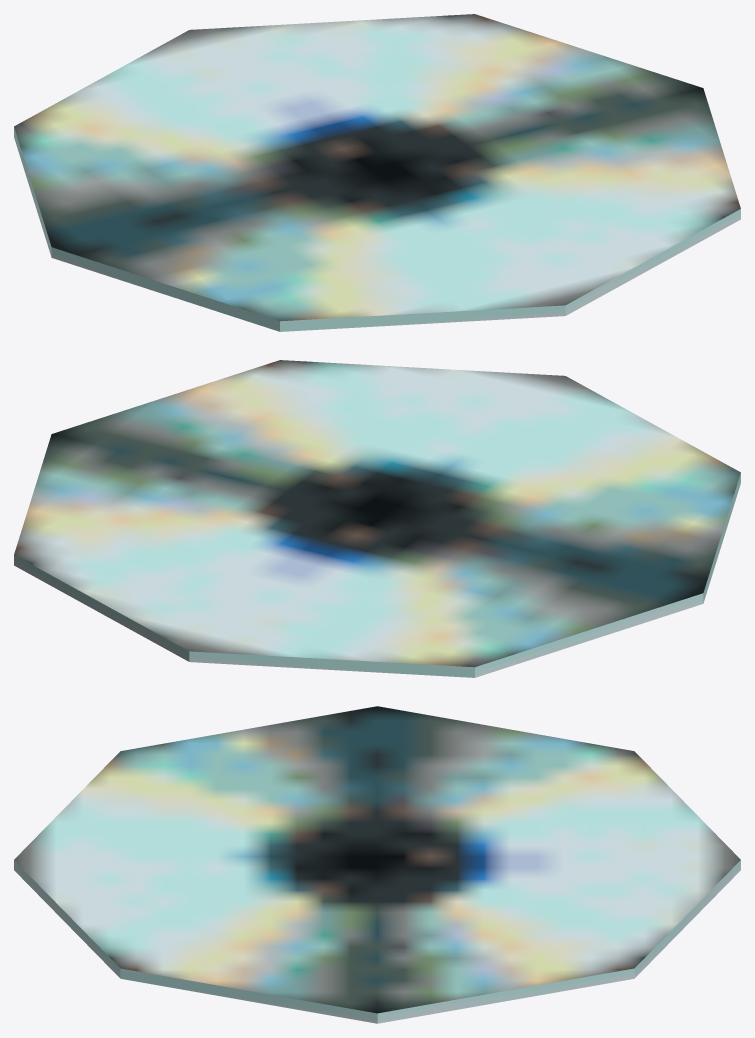
The model's file is disk.fbx.
3 views of the same model, one above another, from view 1: azimuth 30°, elevation 25°; view 2: azimuth 150°, elevation 25°; view 3: azimuth 270°, elevation 25° (orthographic). The views are drawn at different scales.
Parts seen in each view (by area): view 1: disk; view 2: disk; view 3: disk.
Part boxes in pixels (x1,y1,x2,y2): disk: (14, 14, 740, 331); disk: (14, 360, 740, 677); disk: (14, 706, 740, 1023).
Bounding box in the file's own units: 12 × 12 × 0.1886.
